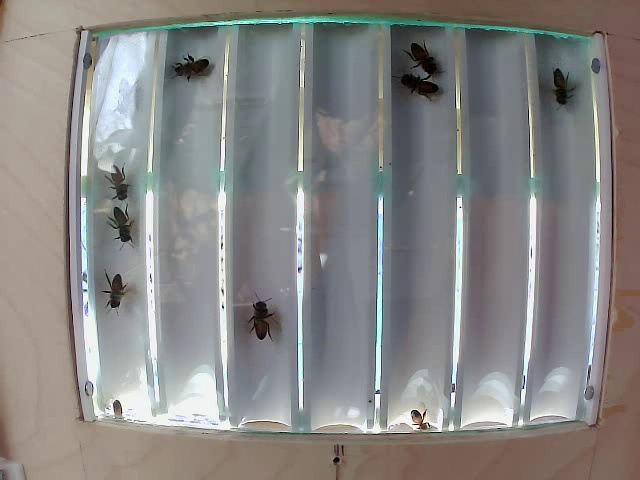bee: (237, 279, 281, 350), (100, 197, 151, 249), (95, 265, 133, 328), (101, 156, 141, 203), (540, 60, 567, 120), (409, 42, 446, 78), (171, 42, 202, 81), (405, 70, 430, 110)
